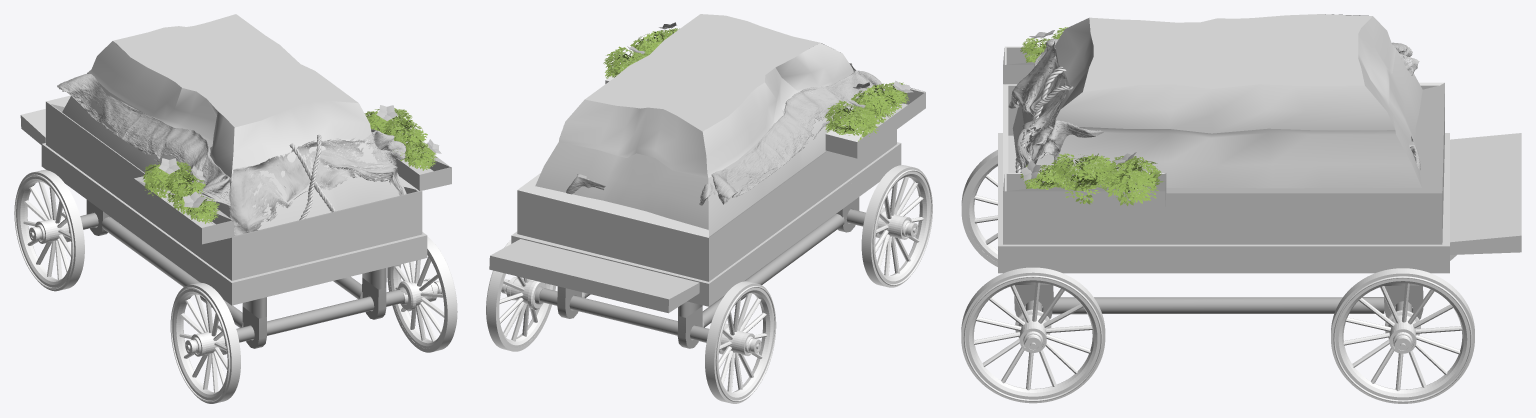
The model's file is Carriage_Formal.fbx.
3 renders of one model, left to right at view 1: azimuth 30°, elevation 25°; view 2: azimuth 150°, elevation 25°; view 3: azimuth 270°, elevation 25°, orthographic. The views are drawn at different scales.
Parts seen in each view (by area): view 1: 中间_上层, Wheel.006, 边, 底, Cloth2, Wheel.007, Coth1, 中间_盖板, 中间, 边.001, 边.002, leaves.001 (+7 smaller); view 2: 中间_上层, 边, Wheel.006, 中间, 前, Coth1, 底, Wheel.007, 边.001, leaves.002, leaves.001, leaves.005 (+1 smaller); view 3: 中间_上层, 边, Wheel.006, 中间, 底, 前, Wheel.007, Cloth2, 边.002, leaves.005, leaves.004, 边.001 (+4 smaller).
Boxes of the visible parts, <box> form: 中间_上层: <box>87,14,372,177</box>; Wheel.006: <box>14,170,457,403</box>; 边: <box>45,95,422,280</box>; 底: <box>41,143,427,305</box>; Cloth2: <box>229,129,406,235</box>; Wheel.007: <box>80,200,404,348</box>; Coth1: <box>57,73,230,206</box>; 中间_盖板: <box>231,139,406,234</box>; 中间: <box>62,73,390,218</box>; 边.001: <box>134,175,233,244</box>; 边.002: <box>384,128,451,190</box>; leaves.001: <box>165,171,205,218</box>; 中间_上层: <box>559,14,853,178</box>; 边: <box>517,116,896,281</box>; Wheel.006: <box>486,165,932,403</box>; 中间: <box>535,72,853,236</box>; 前: <box>489,239,699,313</box>; Coth1: <box>699,70,884,205</box>; 底: <box>511,123,901,306</box>; Wheel.007: <box>539,197,865,348</box>; 边.001: <box>825,86,925,158</box>; leaves.002: <box>824,100,878,141</box>; leaves.001: <box>851,83,897,126</box>; leaves.005: <box>603,46,649,78</box>; 中间_上层: <box>1055,14,1395,133</box>; 边: <box>1003,82,1444,244</box>; Wheel.006: <box>961,150,1474,403</box>; 中间: <box>1012,49,1422,188</box>; 底: <box>998,133,1449,273</box>; 前: <box>1450,133,1521,254</box>; Wheel.007: <box>1014,282,1423,319</box>; Cloth2: <box>1008,41,1420,170</box>; 边.002: <box>1003,173,1166,210</box>; leaves.005: <box>1100,156,1163,205</box>; leaves.004: <box>1050,153,1114,204</box>; 边.001: <box>1003,46,1039,84</box>.
Bounding box in the file's own units: 616 × 547 × 935.
